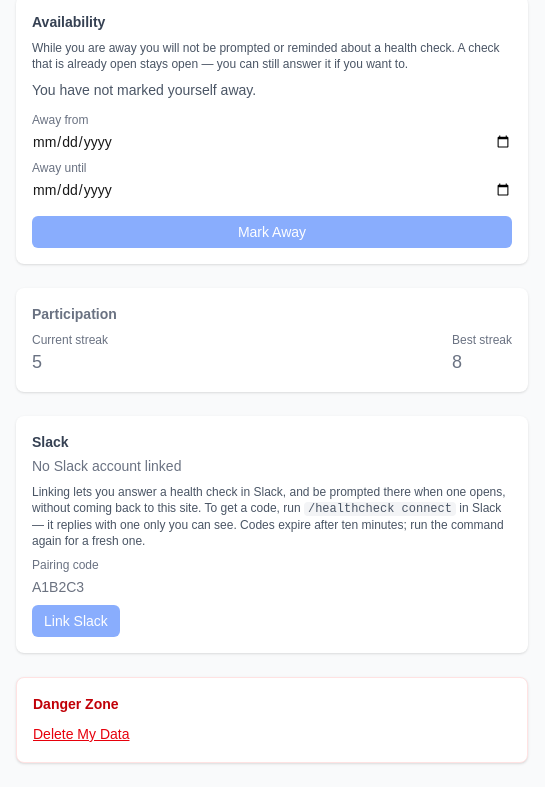
Test: Profile Page › Requirements 2.2, 2.3, 2.4, 7.1, 7.2: Slack pairing-code input › shows an error message for an invalid or expired code
(page scrolled)
Type "WRONG1" into the field labelled "Pairing code" at (272, 587), box left=32, top=577, right=512, bottom=597
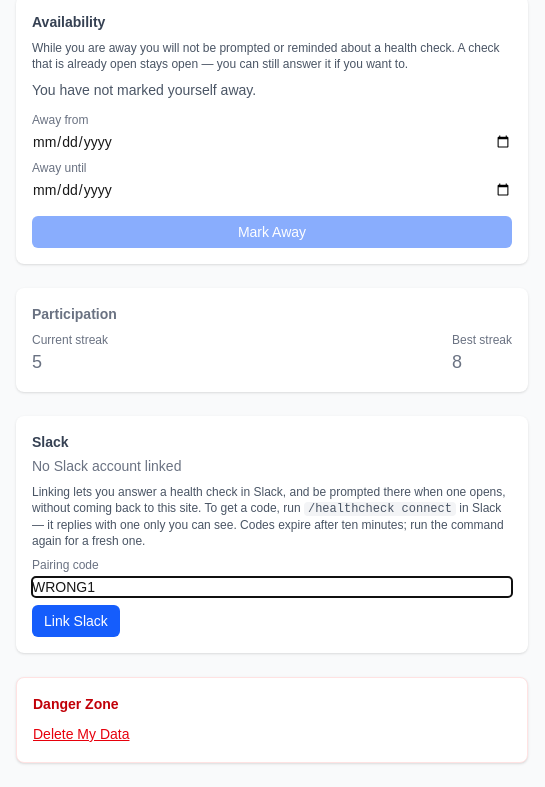
Click the button "Link Slack" at (76, 621), box left=32, top=605, right=120, bottom=637
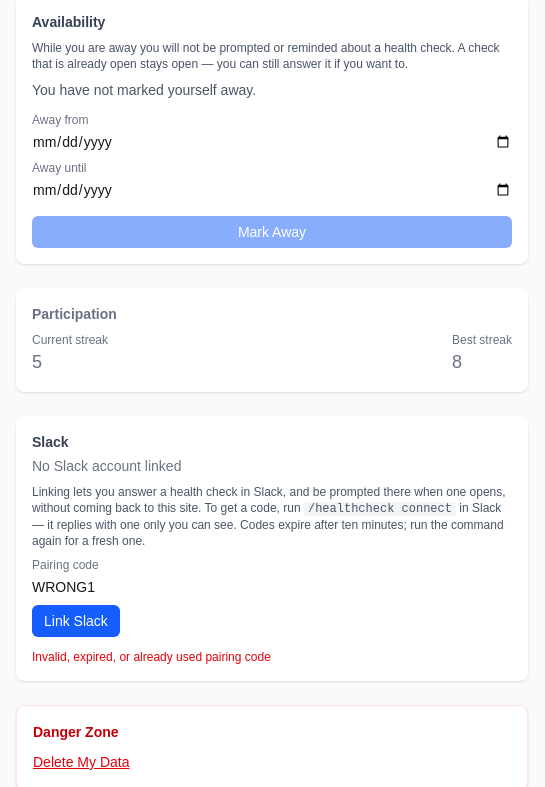
Check: the text "Invalid, expired, or already used pairing code" is shown, box left=32, top=650, right=271, bottom=664
